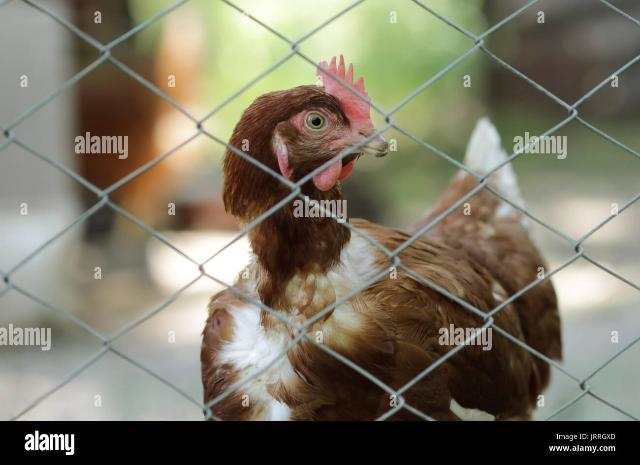Chicken: (201, 53, 562, 423)
